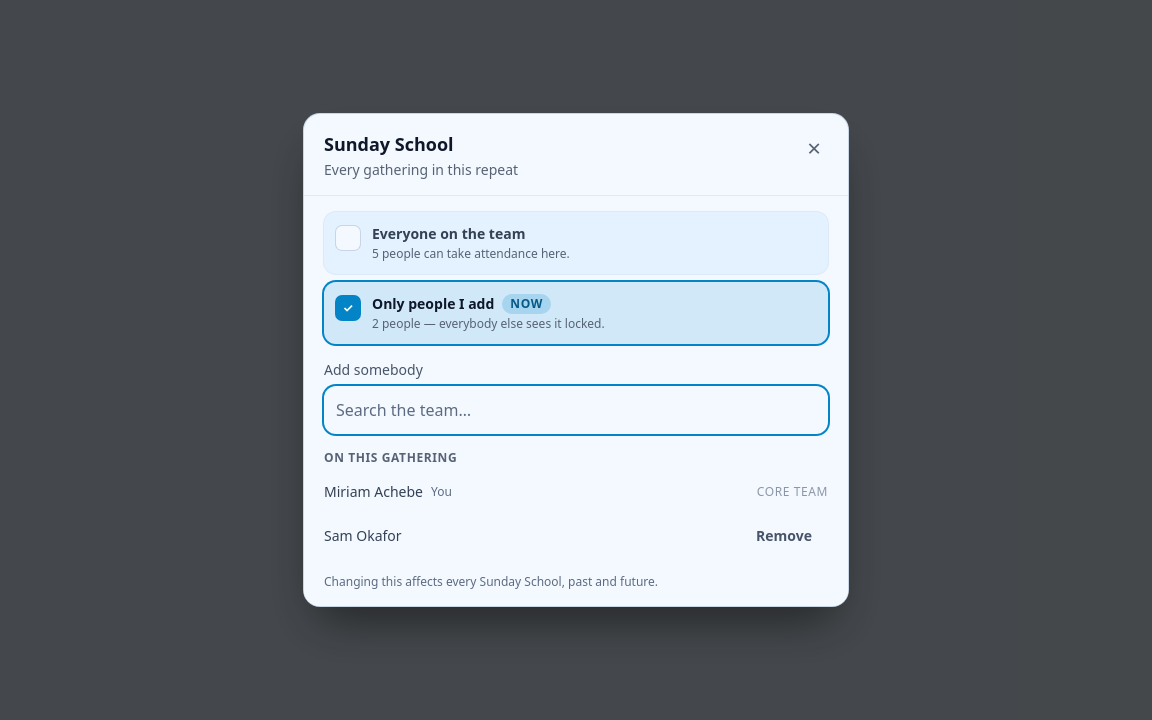
Scenario: searching the team for somebody to add › says so when nobody matches, instead of rendering nothing at all
This screenshot has width=1152, height=720.
Type "zebedee" into the field labelled "Add somebody". click: (576, 410)
box: [324,386,828,434]
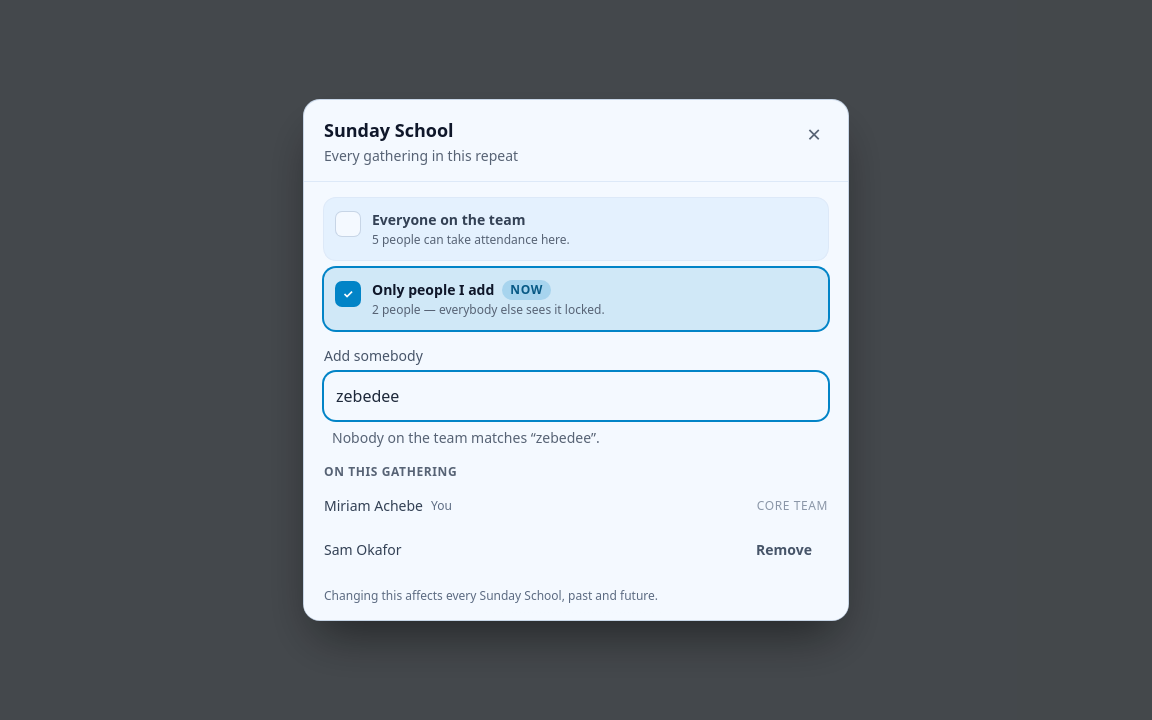
Expected: the text "Nobody on the team matches “zebedee”." is shown, [332,428,600,447]
